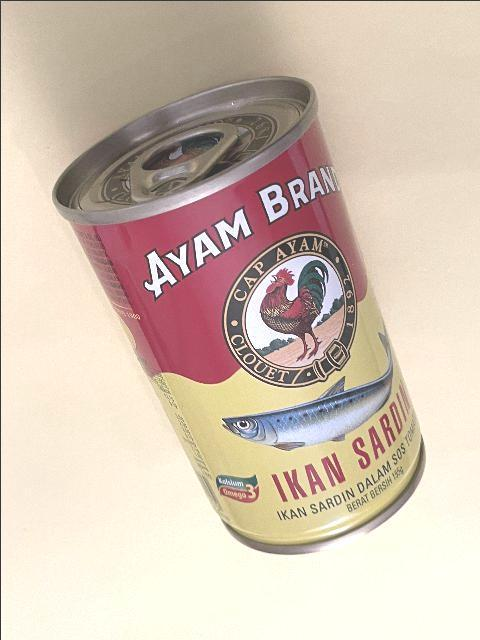foodcan: (50, 68, 426, 556)
